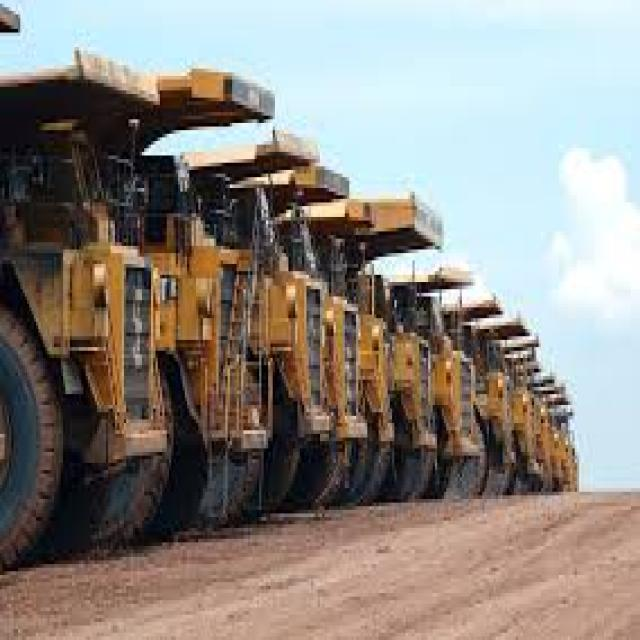dump_truck: (2, 47, 183, 560), (164, 43, 300, 568)
